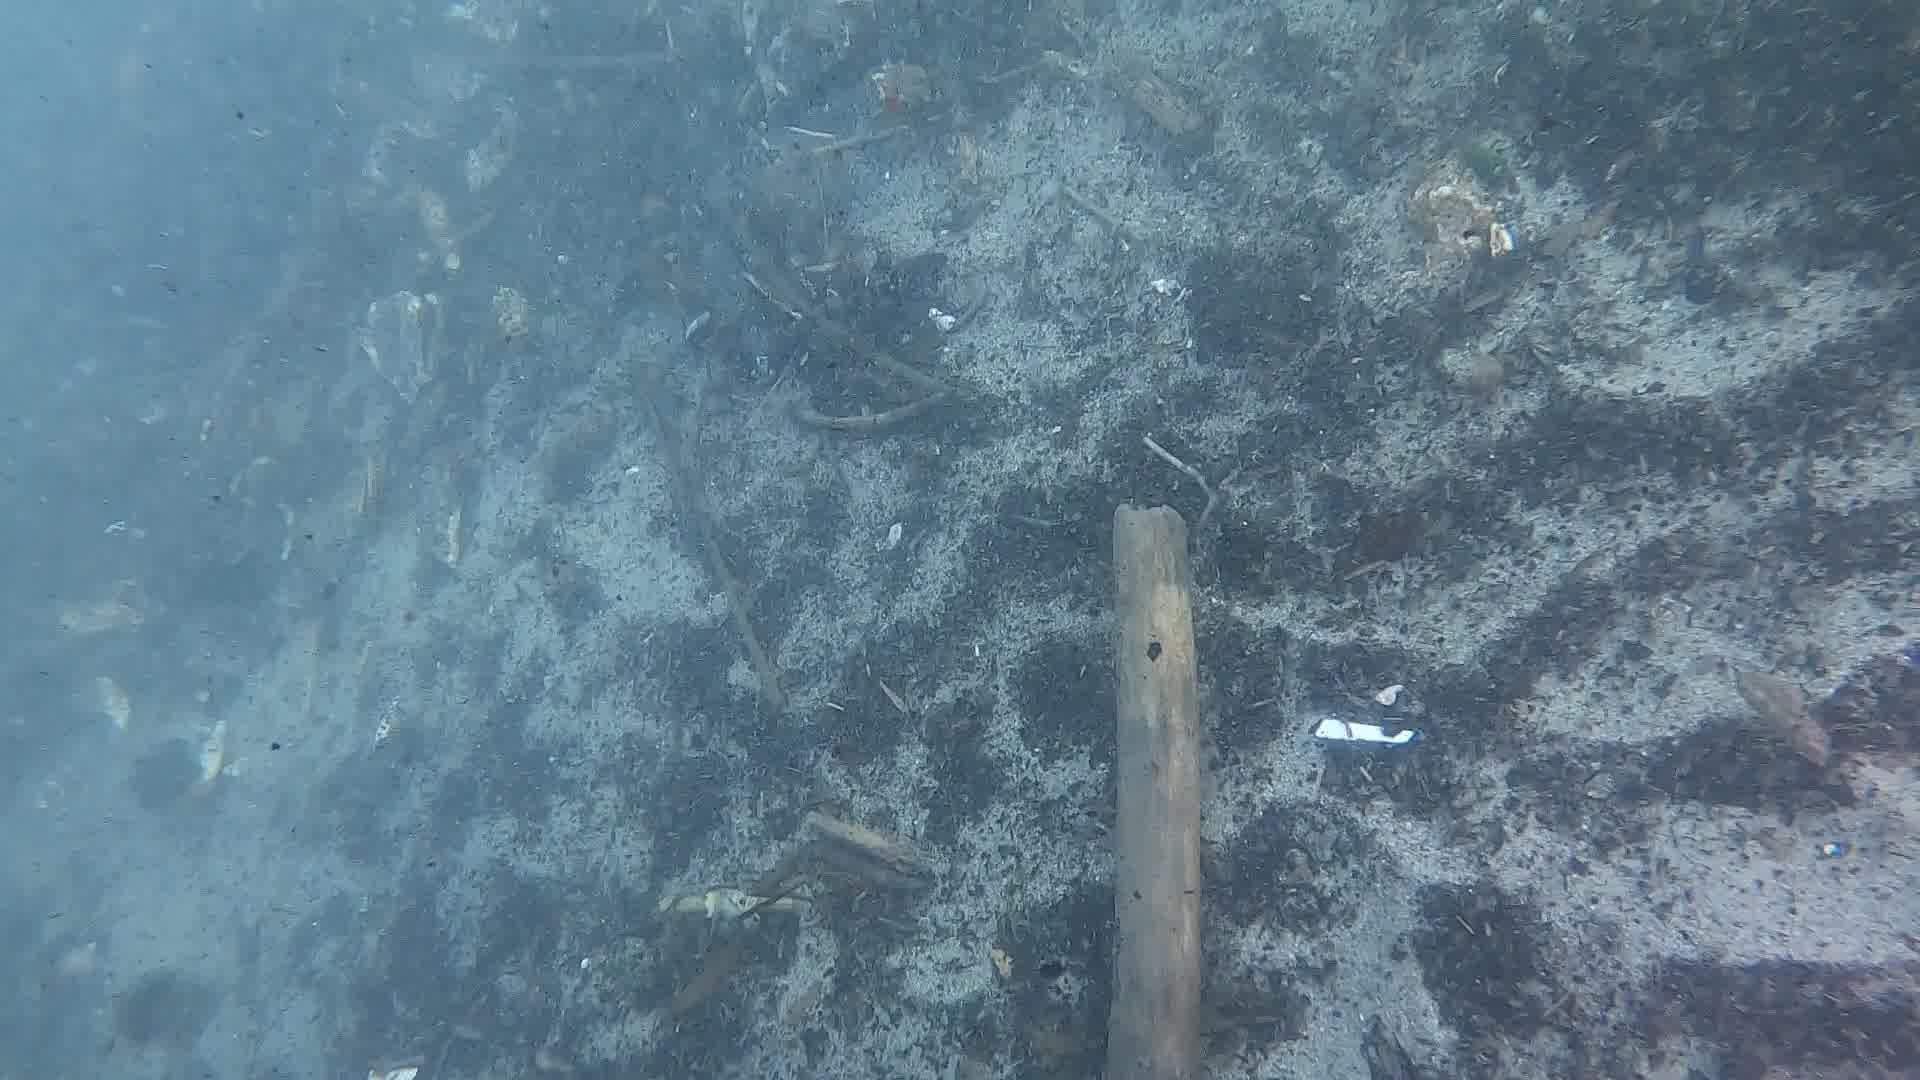wood: (1101, 502, 1200, 1080)
